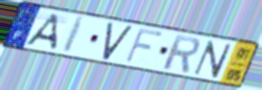A: (23, 12, 61, 52)
F: (122, 27, 165, 65)
I: (60, 15, 88, 55)
N: (191, 39, 234, 80)
R: (161, 33, 202, 75)
V: (101, 22, 135, 62)
